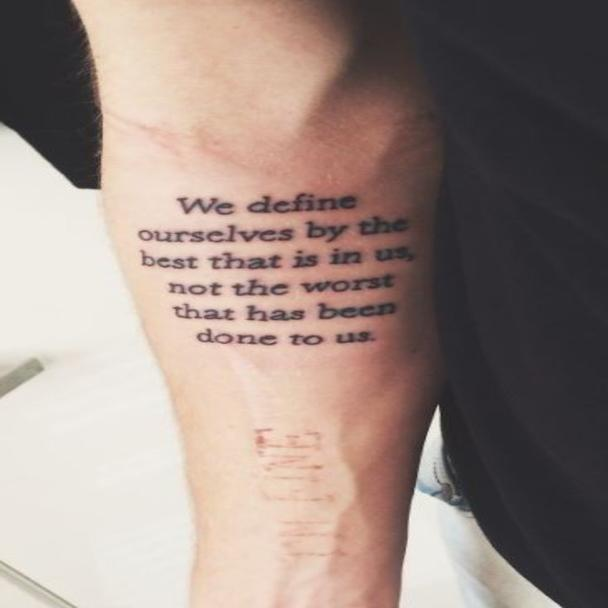tattoos: (138, 192, 415, 348)
